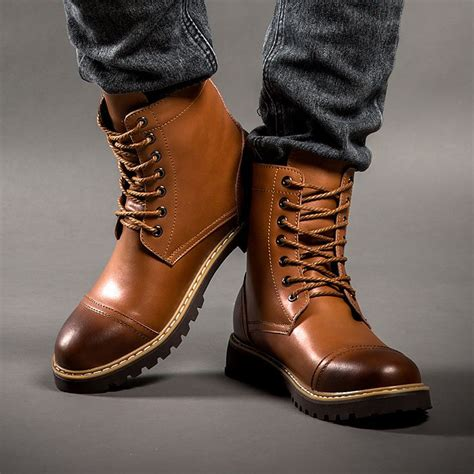cuero: (53, 77, 422, 395)
